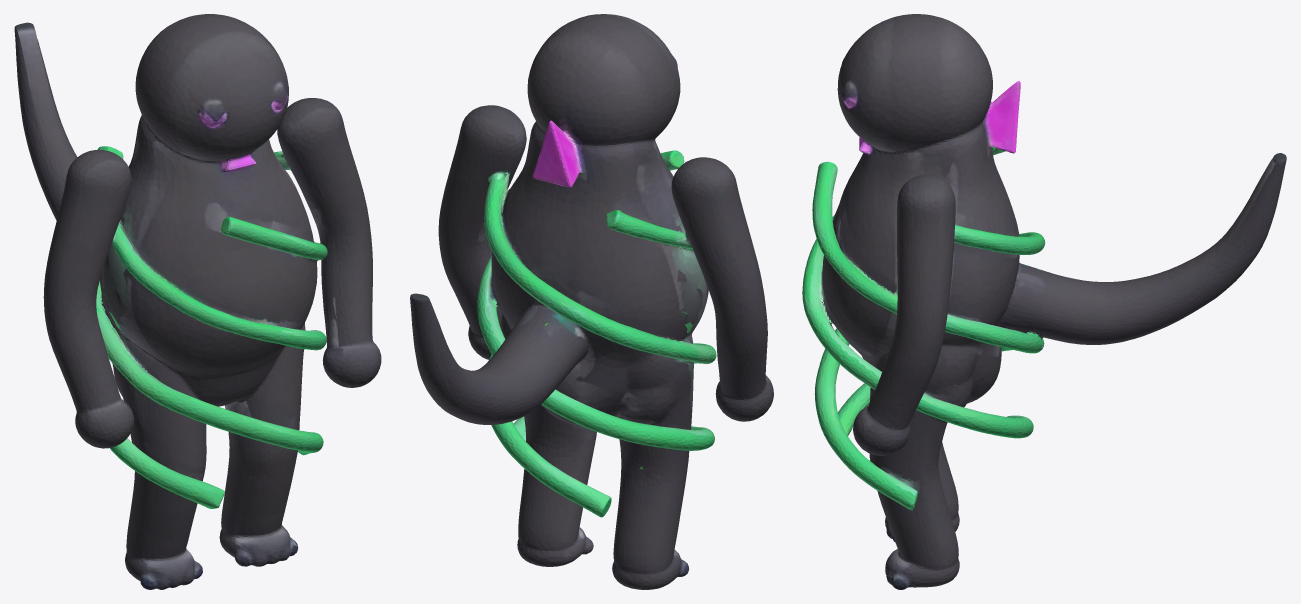
The model's file is creature-117.glb.
3 views of the same model, side by side, from view 1: azimuth 30°, elevation 25°; view 2: azimuth 150°, elevation 25°; view 3: azimuth 270°, elevation 25° (orthographic).
Visible parts, largest first — view 1: tmporpq06a8.ply; view 2: tmporpq06a8.ply; view 3: tmporpq06a8.ply.
Boxes of the visible parts, x1=… form: tmporpq06a8.ply: x1=14, y1=14, x2=381, y2=589; tmporpq06a8.ply: x1=410, y1=14, x2=773, y2=589; tmporpq06a8.ply: x1=802, y1=14, x2=1286, y2=589.
Bounding box in the file's own units: 1.23 × 1.99 × 1.63.
Materials: 1 (1 with a texture image).
